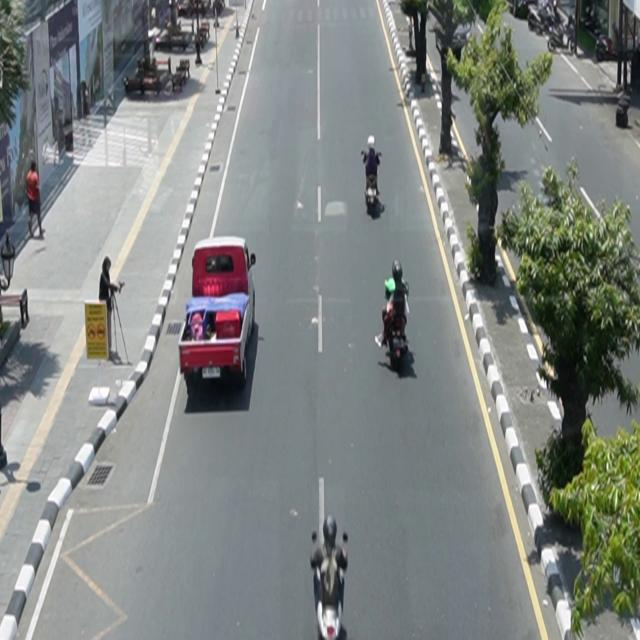truck: (179, 237, 257, 388)
